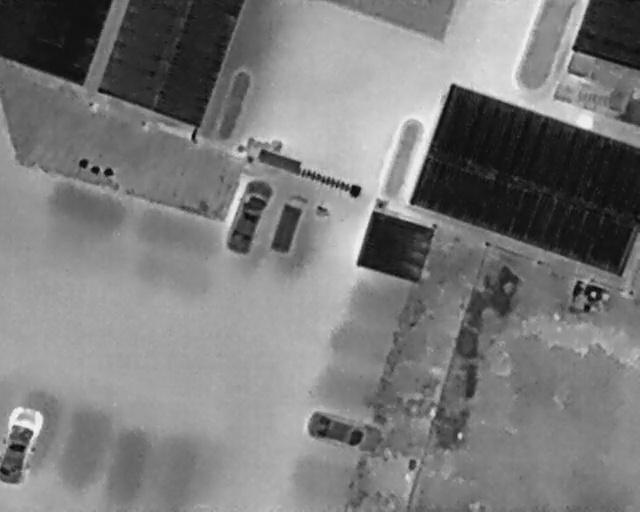Car: (221, 173, 276, 258), (302, 405, 386, 456), (0, 406, 44, 485)
